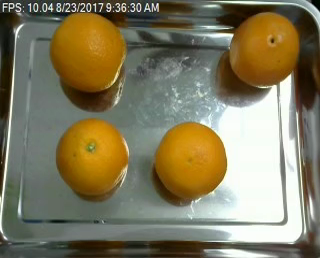Orange: (50, 11, 128, 91), (153, 120, 228, 200), (56, 117, 130, 197), (229, 11, 301, 88)
